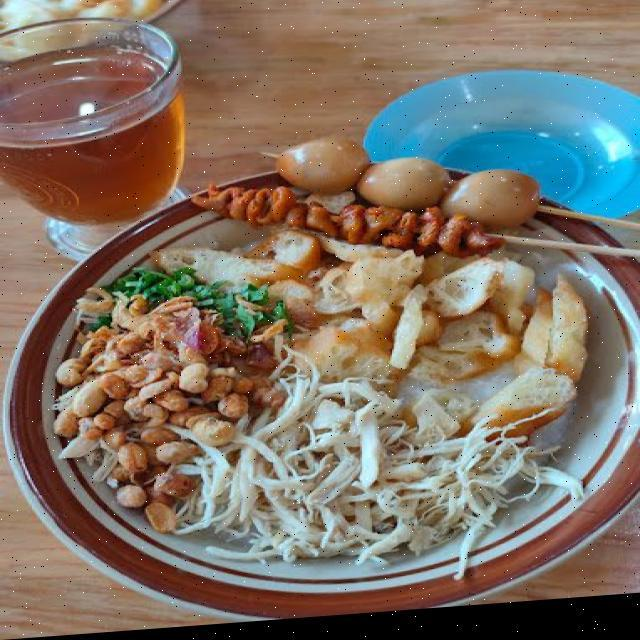bubur ayam: (54, 196, 610, 584)
mangkuk: (1, 126, 640, 638), (362, 59, 640, 243), (0, 0, 196, 35)
